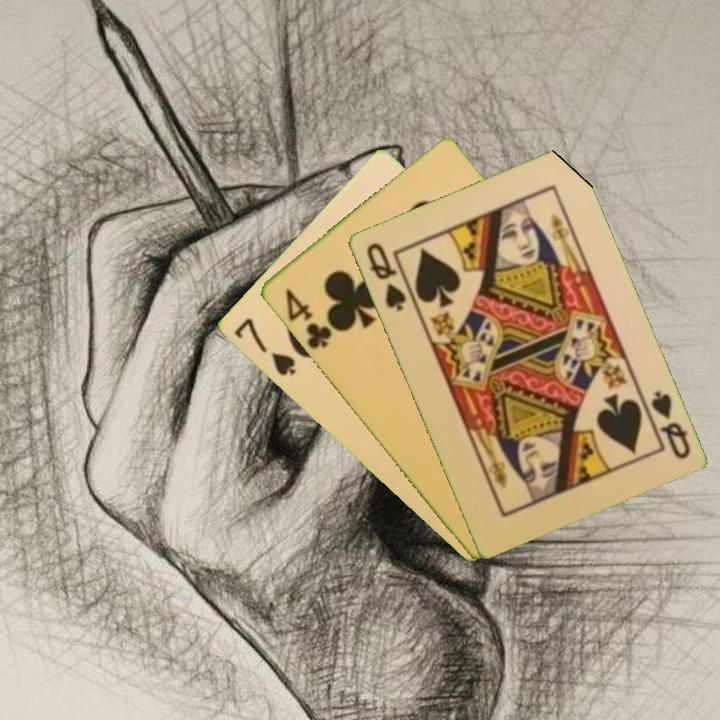4c: (280, 285, 334, 353)
7s: (230, 314, 299, 379)
Qs: (638, 387, 693, 462), (362, 238, 408, 315)
